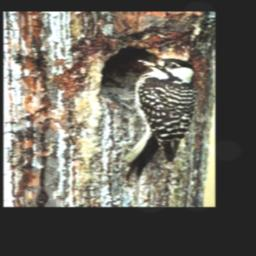Woodpecker: (121, 56, 196, 180)
